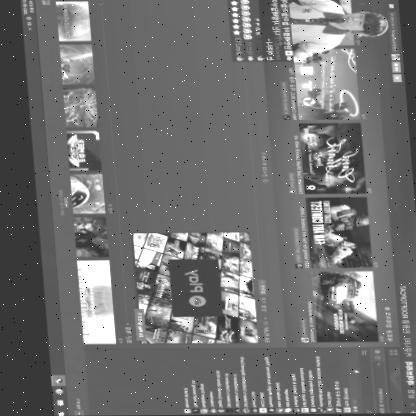streamer: (288, 0, 390, 63)
